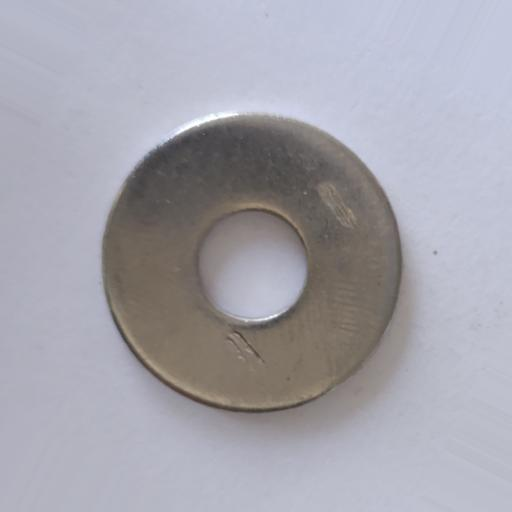scratch: (316, 180, 358, 231)
